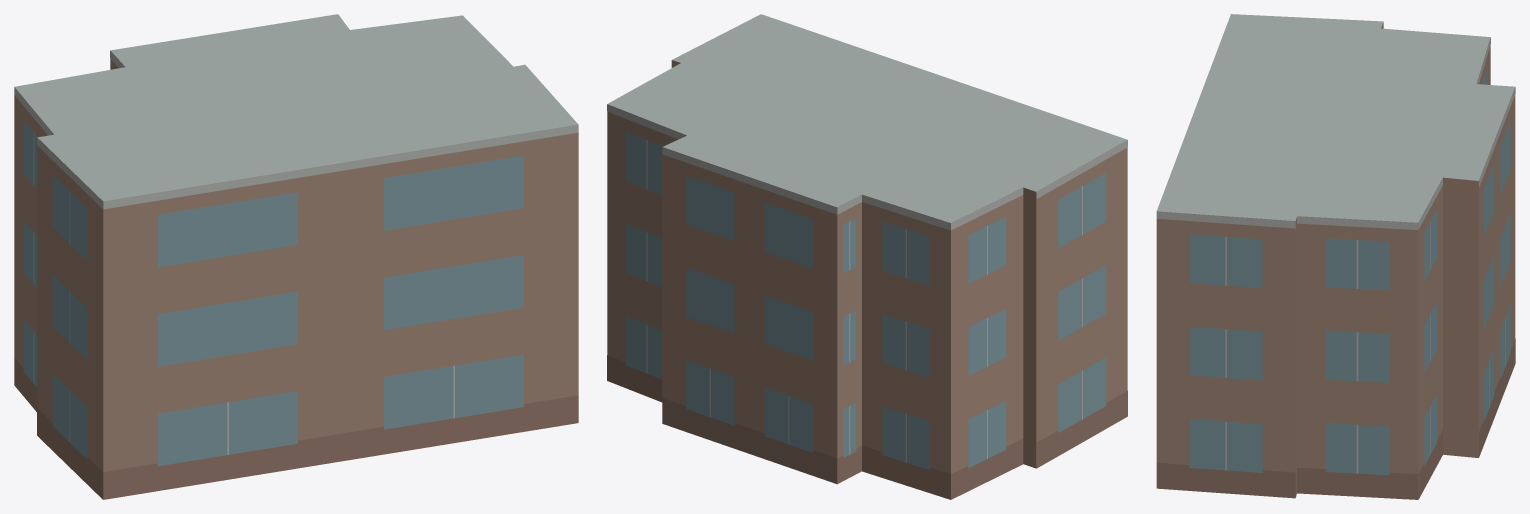
The model's file is survey-upis-32975556.glb.
3 views of the same model, side by side, from view 1: azimuth 30°, elevation 25°; view 2: azimuth 150°, elevation 25°; view 3: azimuth 270°, elevation 25° (orthographic). The views are drawn at different scales.
Parts seen in each view (by area): view 1: survey-upis-32975556.tmp; view 2: survey-upis-32975556.tmp; view 3: survey-upis-32975556.tmp.
Boxes of the visible parts, x1,y1,x2,y2 form: survey-upis-32975556.tmp: [14, 14, 578, 499]; survey-upis-32975556.tmp: [607, 14, 1127, 499]; survey-upis-32975556.tmp: [1156, 14, 1515, 499].
Bounding box in the file's own units: 14.79 × 9.15 × 10.75.
